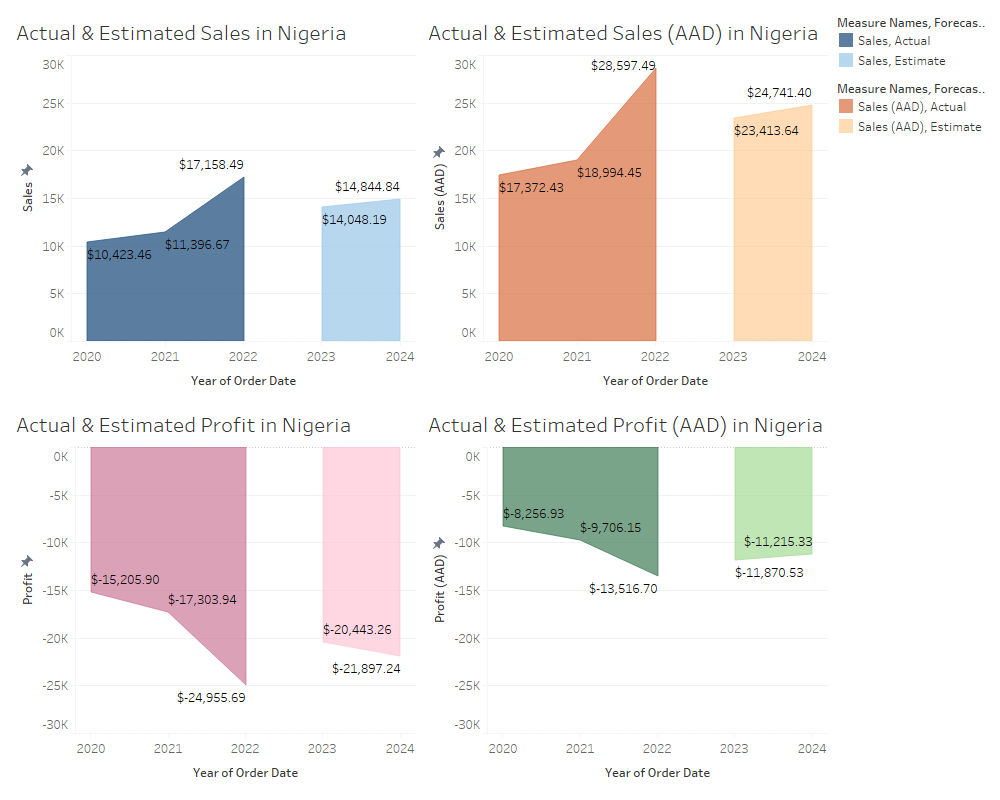

The page's visual inventory and layout, read from the dashboard file:
{"tool":"tableau","page":{"name":"Adjusted Discount Analysis for Nigeria","canvas":[1000,800],"ordinal":0},"visuals":[{"type":"worksheet","title":"Actual & Estimated Sales in Nigeria","mark":"Area","rows":["Sales"],"cols":["Order Date"],"box":[8,8,412,392]},{"type":"worksheet","title":"Actual & Estimated Sales (AAD) in Nigeria","mark":"Area","rows":["Calculation_491736835652972546"],"cols":["Order Date"],"box":[420,8,412,392]},{"type":"legend","title":"Actual & Estimated Sales in Nigeria","param":"[federated.034txd11y80kzv1bq5ebt0nzog7h].[:Measure Names]\n[federated.034txd11y80","box":[832,8,160,66]},{"type":"legend","title":"Actual & Estimated Sales (AAD) in Nigeria","param":"[federated.034txd11y80kzv1bq5ebt0nzog7h].[:Measure Names]\n[federated.034txd11y80","box":[832,74,160,66]},{"type":"worksheet","title":"Actual & Estimated Profit in Nigeria","mark":"Area","rows":["Profit"],"cols":["Order Date"],"box":[8,400,412,392]},{"type":"worksheet","title":"Actual & Estimated Profit (AAD) in Nigeria","mark":"Area","rows":["Calculation_491736835654004739"],"cols":["Order Date"],"box":[420,400,412,392]}]}

Visuals, with their boxes in screenshot pixels (x1, y1, x2, y2), scaled from the page's 1000x800 canvas onto the 1000x800 screenshot:
"Actual & Estimated Sales in Nigeria" worksheet (Area marks): rect(8, 8, 420, 400)
"Actual & Estimated Sales (AAD) in Nigeria" worksheet (Area marks): rect(420, 8, 832, 400)
"Actual & Estimated Sales in Nigeria" legend: rect(832, 8, 992, 74)
"Actual & Estimated Sales (AAD) in Nigeria" legend: rect(832, 74, 992, 140)
"Actual & Estimated Profit in Nigeria" worksheet (Area marks): rect(8, 400, 420, 792)
"Actual & Estimated Profit (AAD) in Nigeria" worksheet (Area marks): rect(420, 400, 832, 792)
